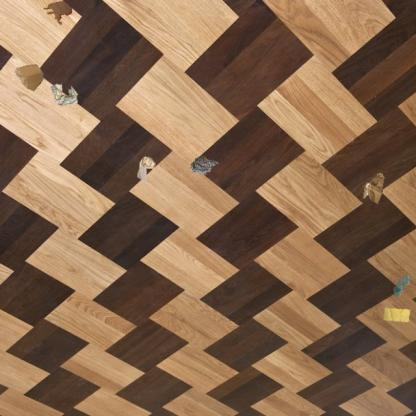dirty: (13, 62, 45, 94), (362, 172, 386, 206), (49, 82, 78, 106), (188, 154, 218, 177), (136, 154, 157, 182), (382, 306, 412, 324)
liquid: (43, 0, 72, 25), (392, 274, 411, 298)
